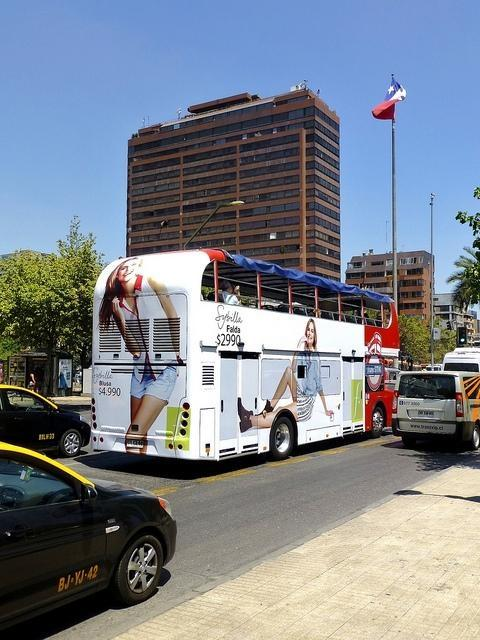bus: (94, 247, 400, 463)
car: (0, 440, 174, 632), (0, 384, 91, 456)
truck: (391, 367, 480, 452)
